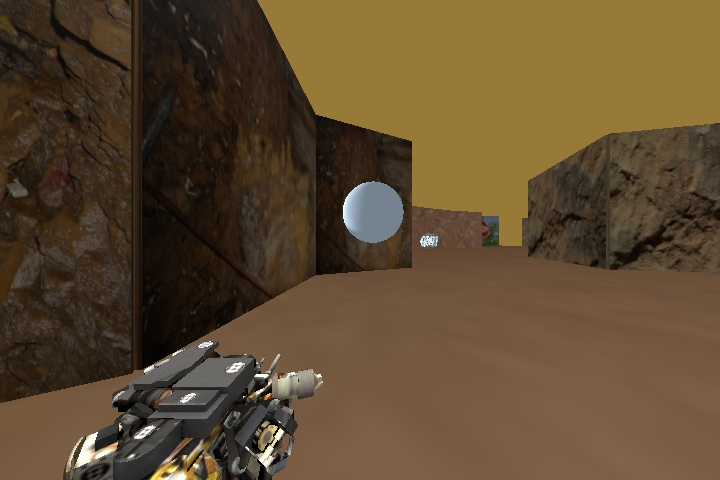minerals: (421, 232, 440, 247)
sphere: (342, 181, 404, 242)
